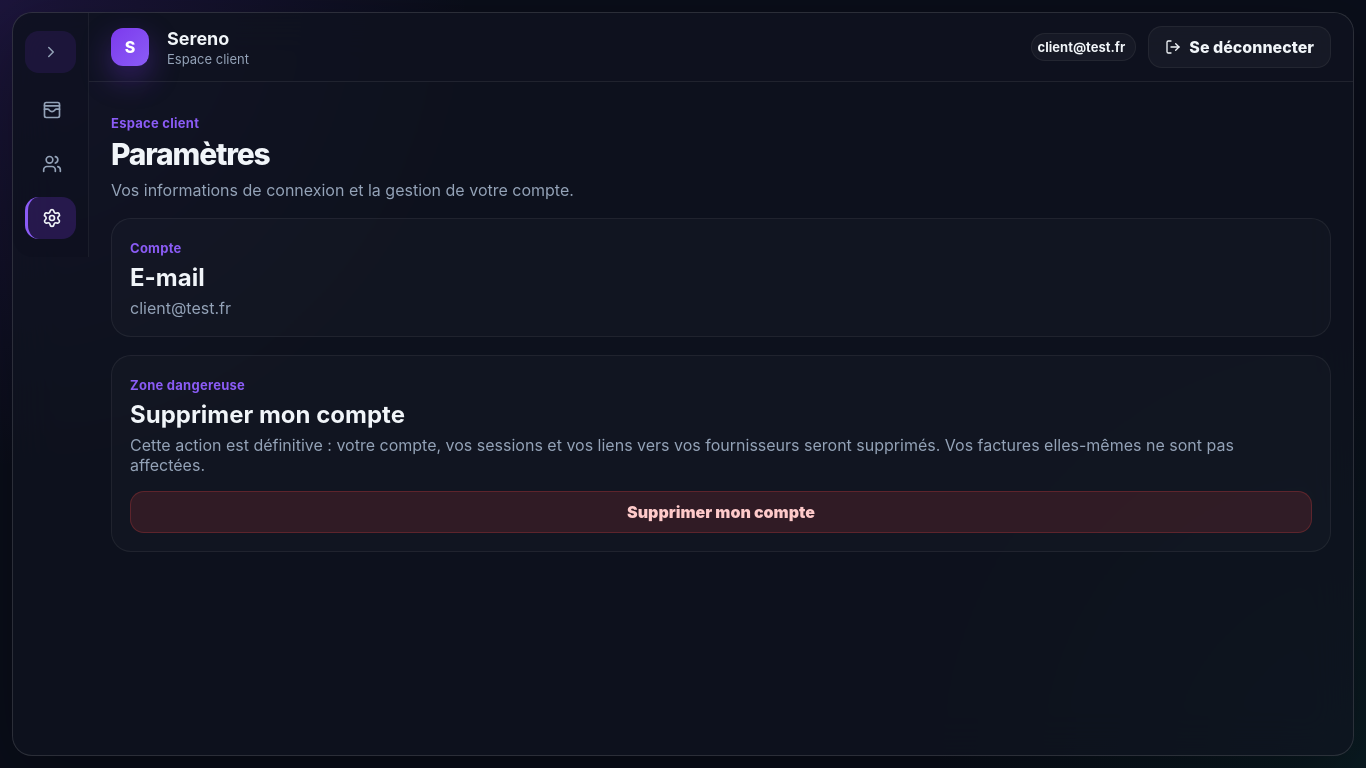
Scenario: EspaceClientParametresPage › supprimer mon compte : demande confirmation, annulable
Click the button "Supprimer mon compte": (721,512) x1=130 y1=491 x2=1312 y2=533
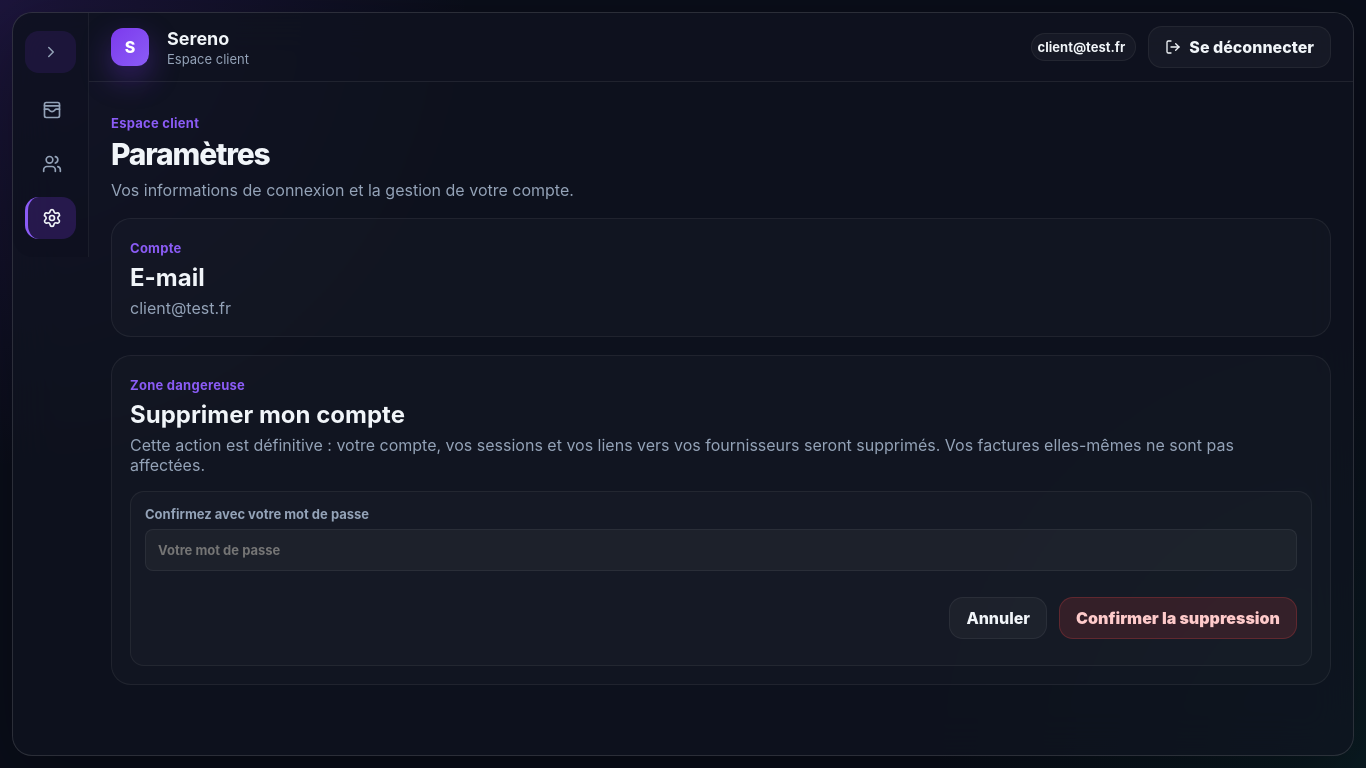
Now the password field with placeholder "votre mot de passe" is shown, box x1=145 y1=529 x2=1297 y2=571
Click the button "Annuler": (998,618) x1=949 y1=597 x2=1047 y2=639
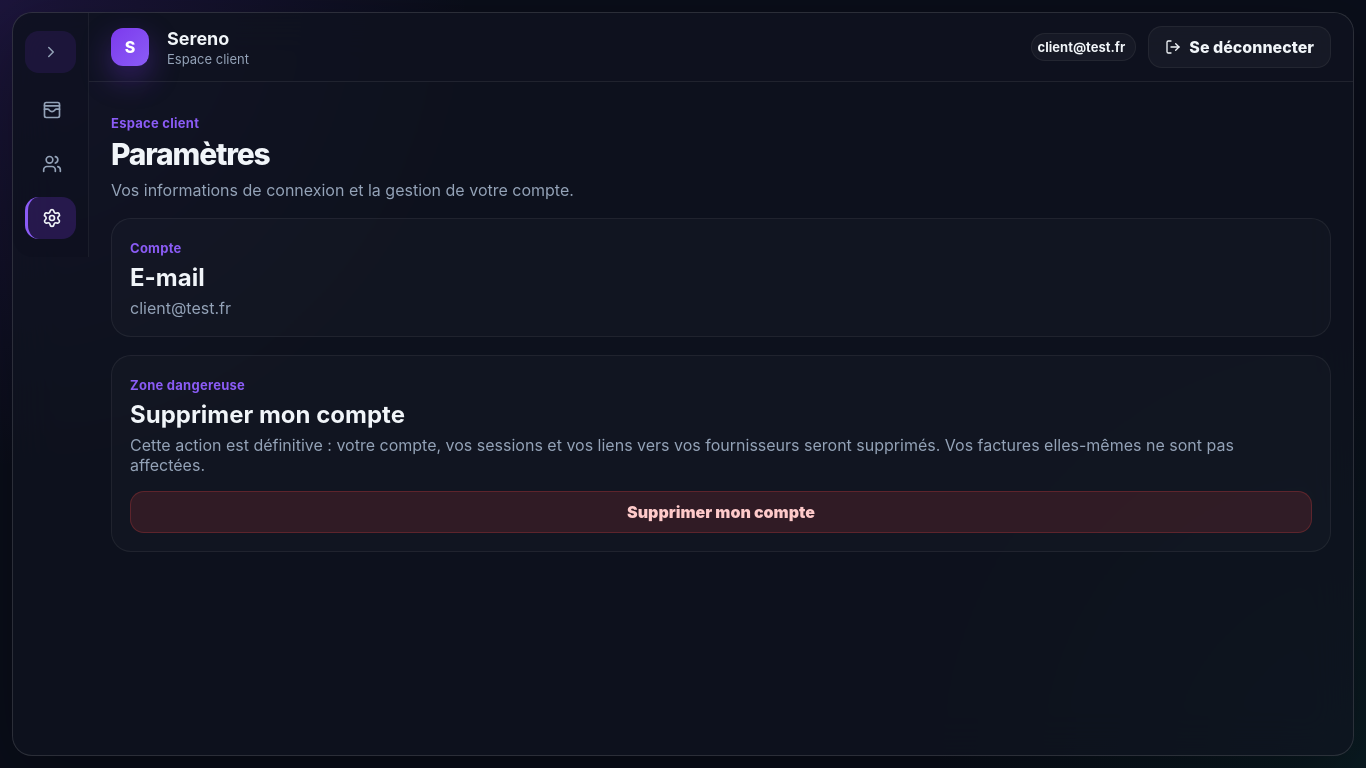
Now the label with placeholder "votre mot de passe" is gone
